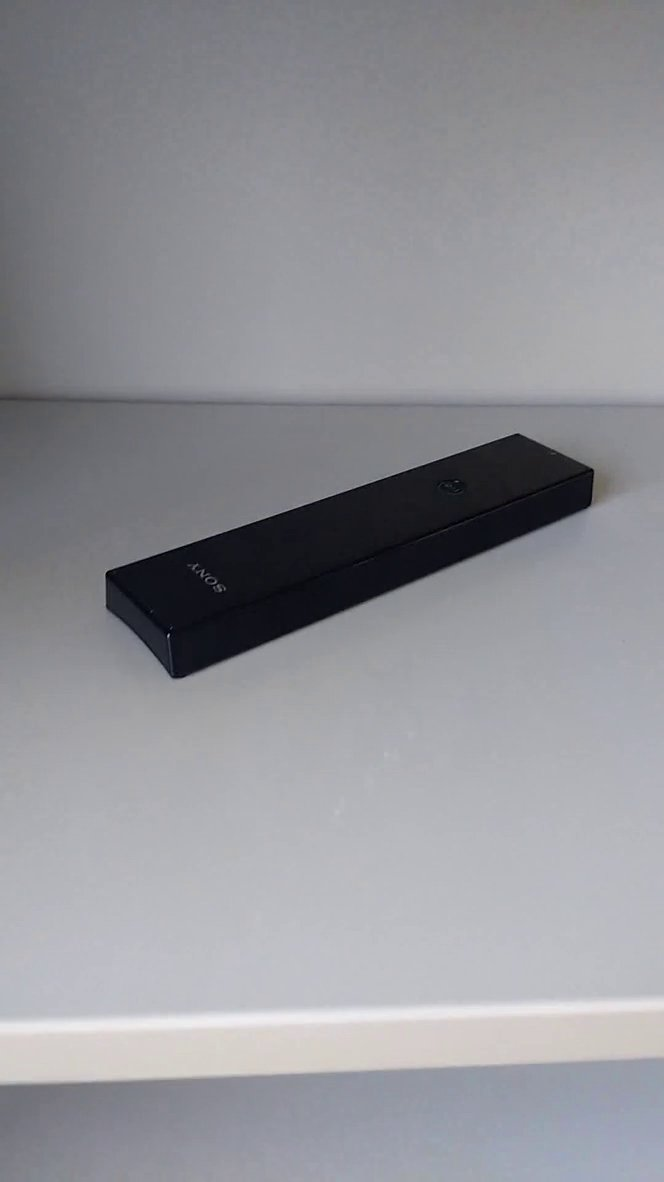remote: (92, 424, 604, 691)
